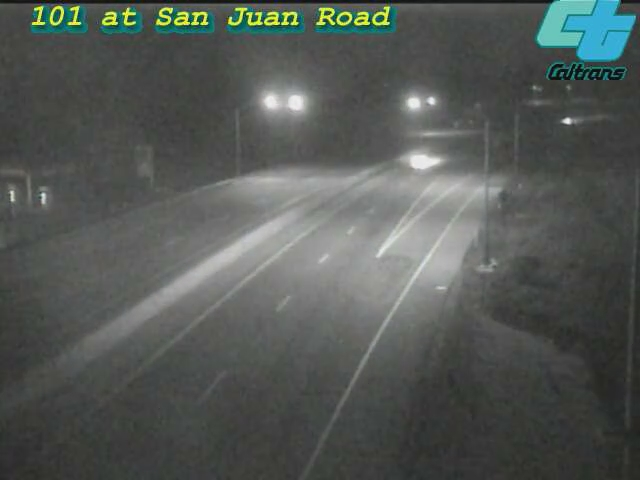vehicle: (542, 97, 592, 147), (402, 135, 452, 185)
